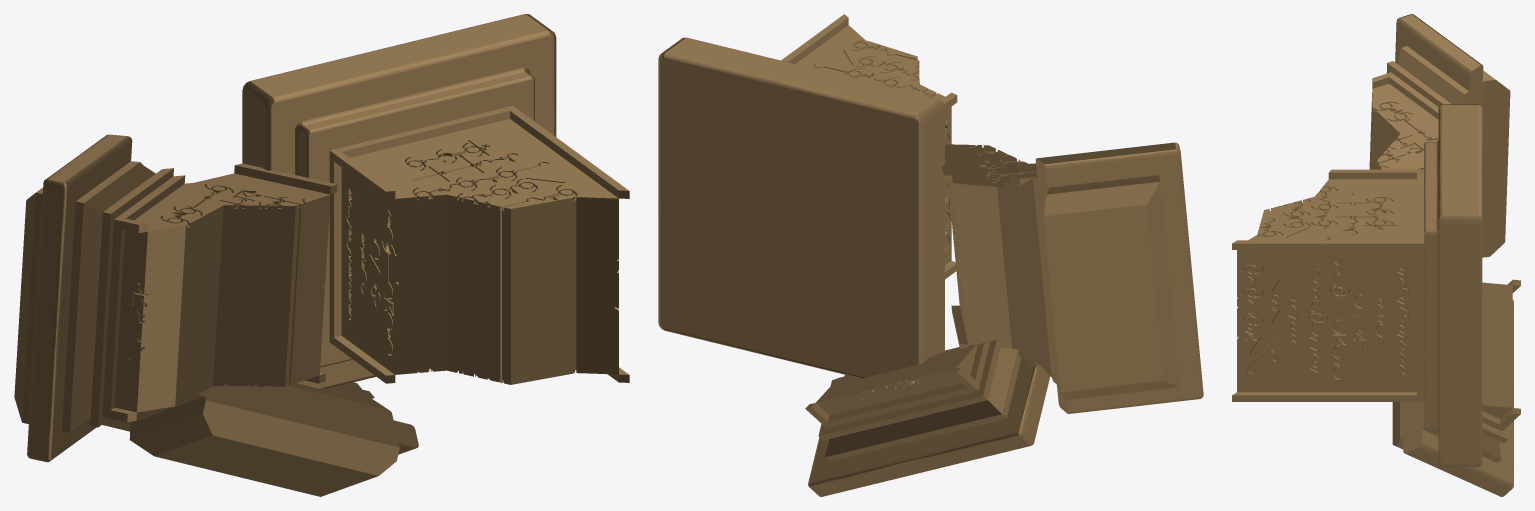
File: YAZIT 03 v12 v1.fbx
The picture shows the model from 3 angles, left to right: view 1: azimuth 30°, elevation 25°; view 2: azimuth 150°, elevation 25°; view 3: azimuth 270°, elevation 25°; orthographic projection. The views are drawn at different scales.
Visible parts, largest first — view 1: Body35; view 2: Body35; view 3: Body35.
Boxes of the visible parts, x1=… form: Body35: x1=14, y1=14, x2=629, y2=496; Body35: x1=658, y1=14, x2=1203, y2=496; Body35: x1=1232, y1=14, x2=1520, y2=496.
Bounding box in the file's own units: 360 × 269 × 198.
